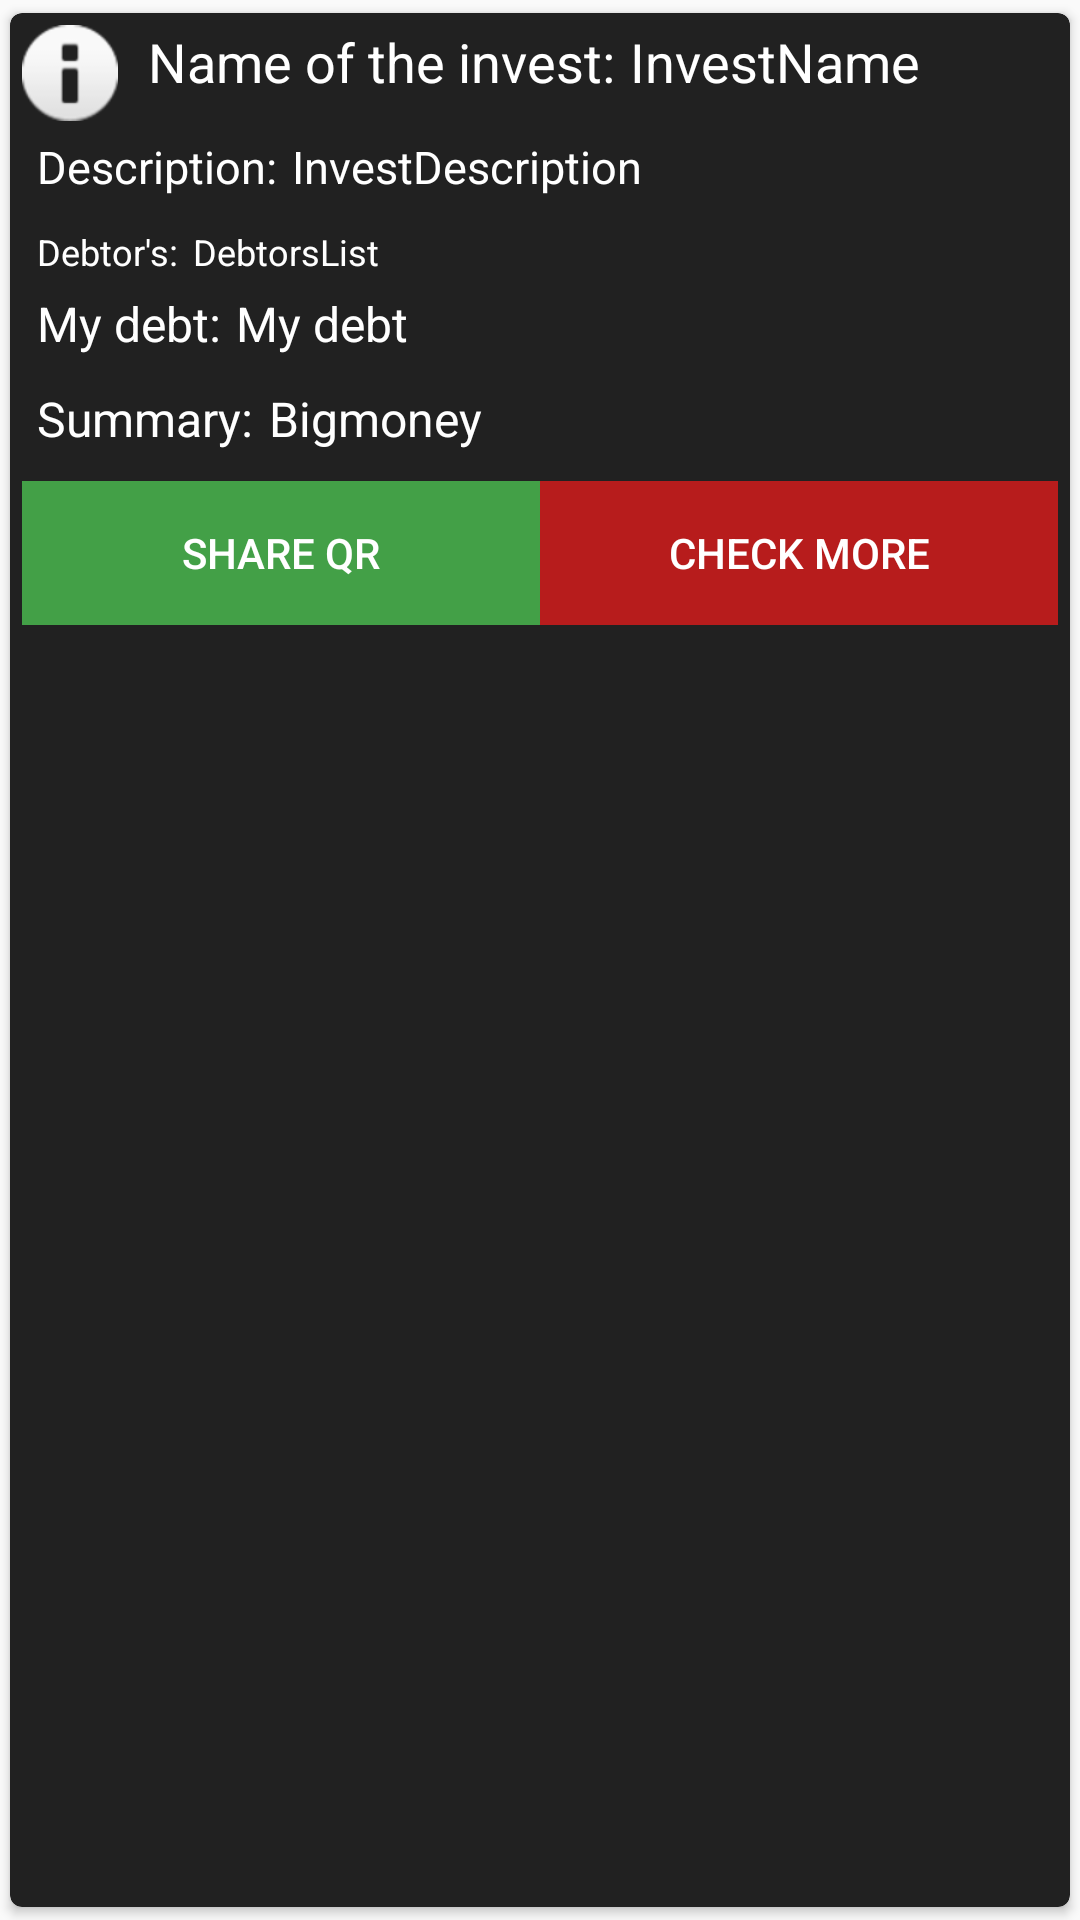

Named icons in this screenshot (1080 x 1920) and their bounding boxes, (x1, y1, x2, y2):
info: (22, 25, 118, 121)
